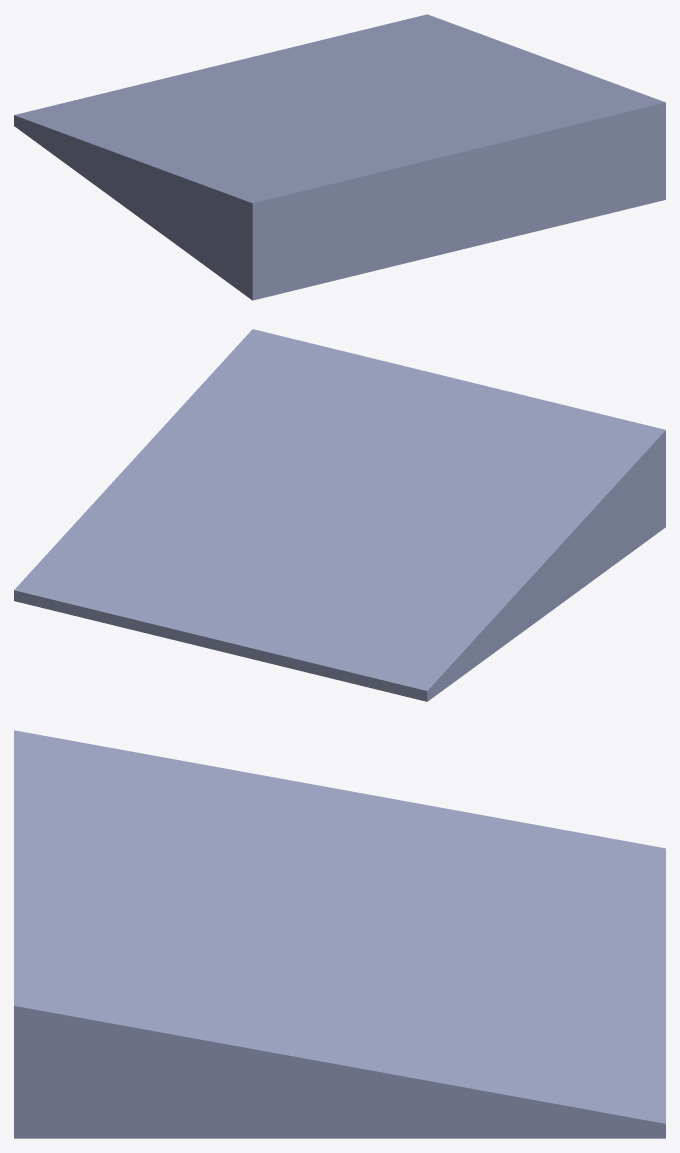
File: road-slope.glb
The picture shows the model from 3 angles, top to bottom: view 1: azimuth 30°, elevation 25°; view 2: azimuth 150°, elevation 25°; view 3: azimuth 270°, elevation 25°; orthographic projection. The views are drawn at different scales.
Parts seen in each view (by area): view 1: road-slope; view 2: road-slope; view 3: road-slope.
Part boxes in pixels (x1,y1,x2,y2): road-slope: [14, 14, 665, 300]; road-slope: [14, 329, 665, 701]; road-slope: [14, 730, 665, 1138].
Bounding box in the file's own units: 1 × 0.225 × 1.
Materials: 1 (1 with a texture image).
